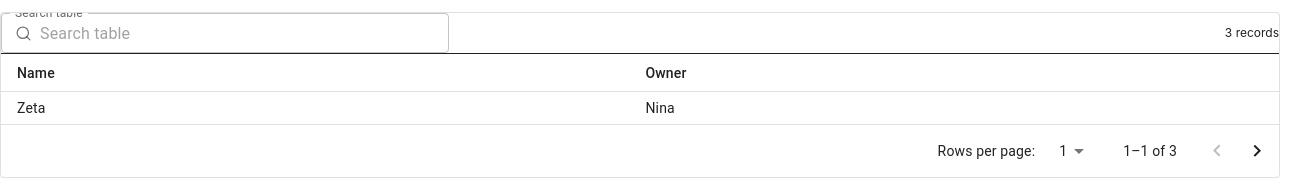
Test: DataTable › returns to the first page when filtering changes the row model
Click the button named "Go to next page" at (1257, 151), box left=1237, top=131, right=1277, bottom=171
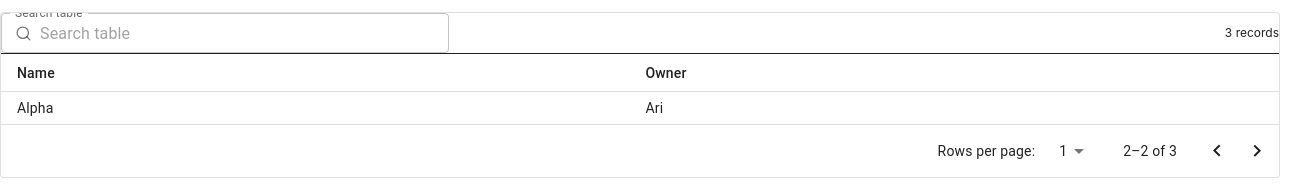
Check: the text "Alpha" is shown, box left=1, top=92, right=630, bottom=125
Type "zeta" into the field labelled "Search table" at (244, 33), box left=40, top=13, right=449, bottom=53
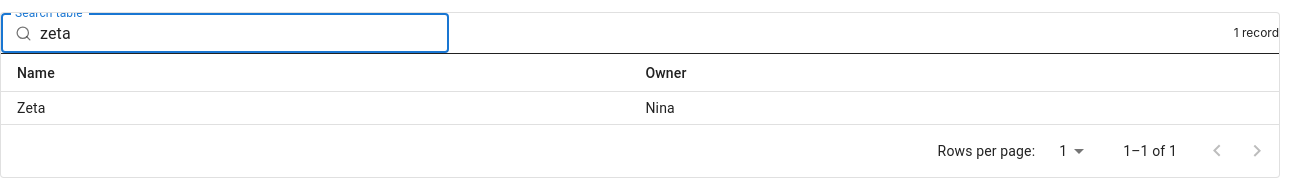
Check: the text "Zeta" is shown, box left=1, top=92, right=630, bottom=125
